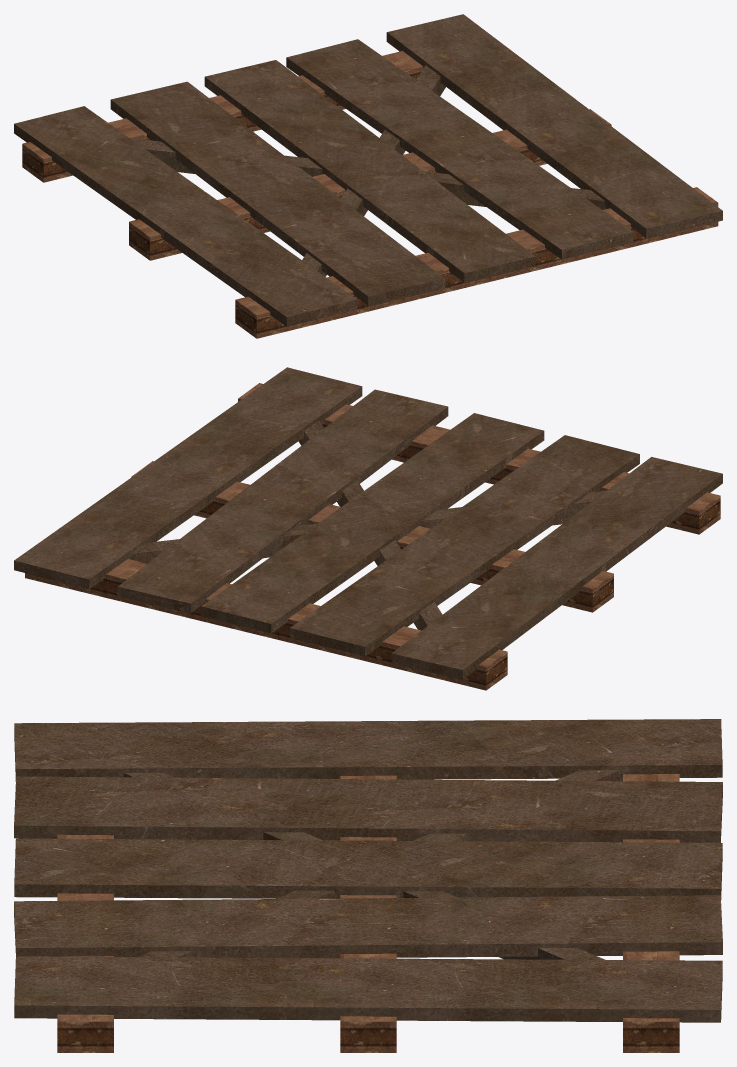
The model's file is thm_tato_imprv_palette_s01_l0.fbx.
3 views of the same model, one above another, from view 1: azimuth 30°, elevation 25°; view 2: azimuth 150°, elevation 25°; view 3: azimuth 270°, elevation 25° (orthographic). The views are drawn at different scales.
Parts seen in each view (by area): view 1: mesh_node; view 2: mesh_node; view 3: mesh_node.
Boxes of the visible parts, x1,y1,x2,y2 form: mesh_node: (14,14,722,338); mesh_node: (14,367,722,690); mesh_node: (14,719,722,1052).
Size of the model in its own units: 2.5 by 0.156 by 2.51.
